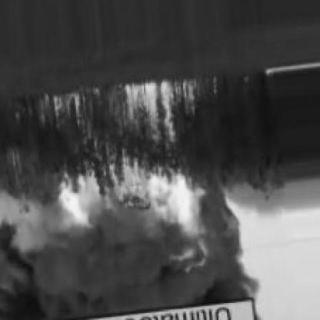Fire: (33, 75, 209, 239)
Smoke: (2, 238, 238, 302)
